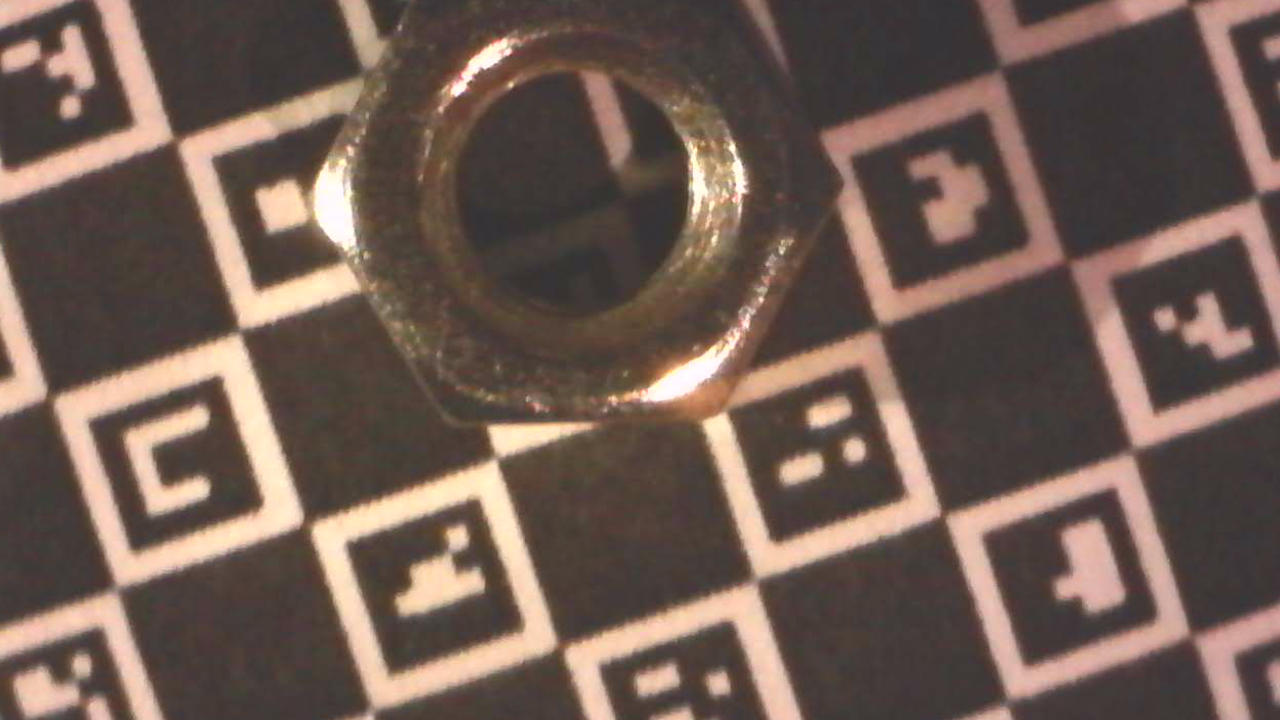Bolt: (302, 0, 848, 428)
